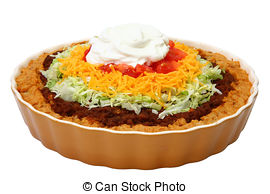ground_beef: (55, 99, 172, 128)
